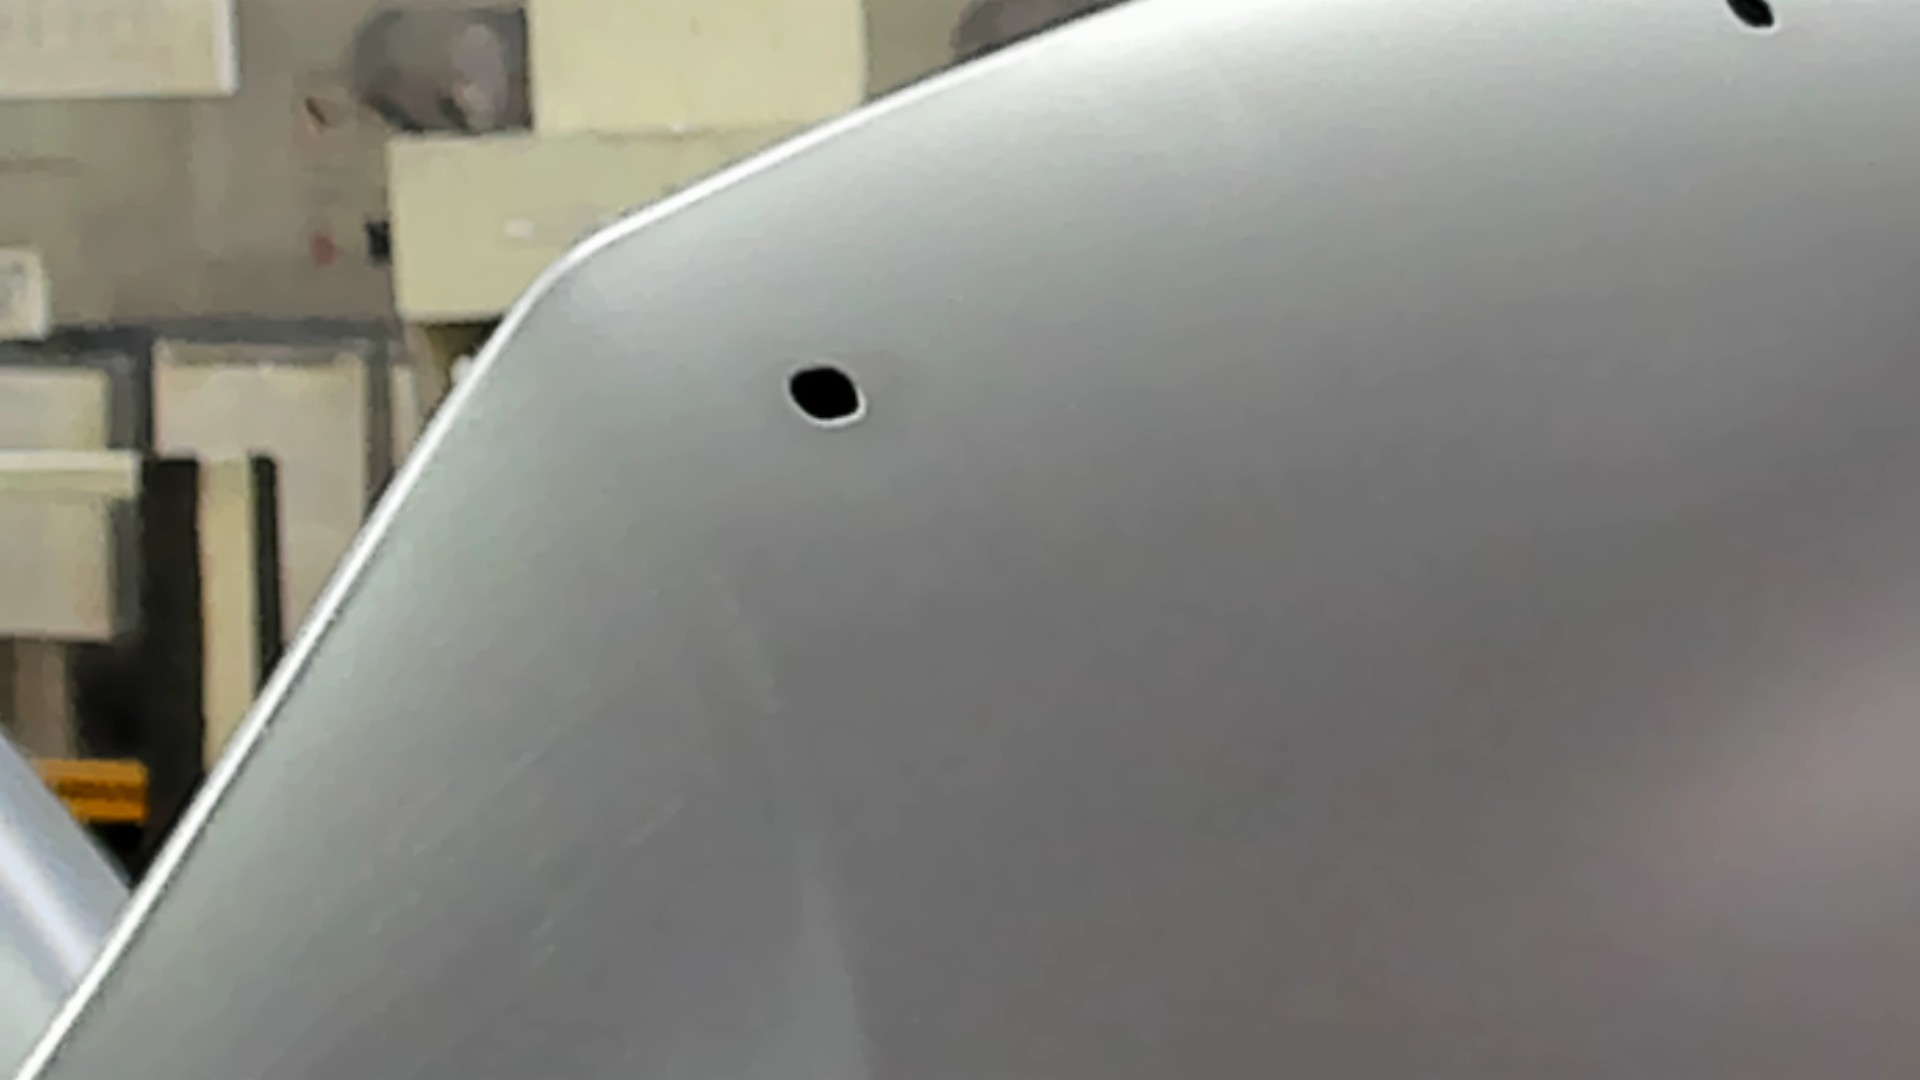amorfo: (779, 349, 873, 436), (1721, 1, 1788, 40)
